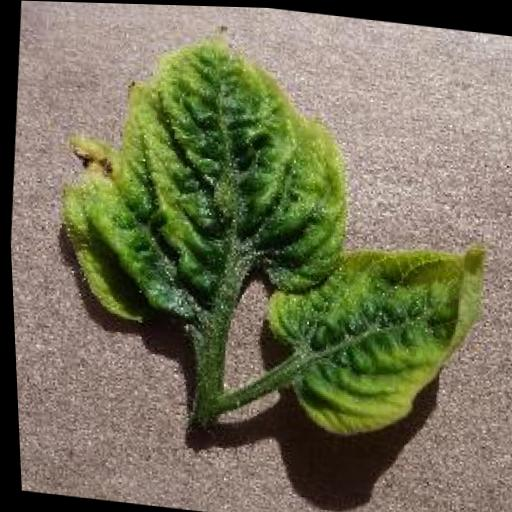Yellow Leaf Curl Virus: (49, 26, 364, 346), (248, 221, 490, 450)
